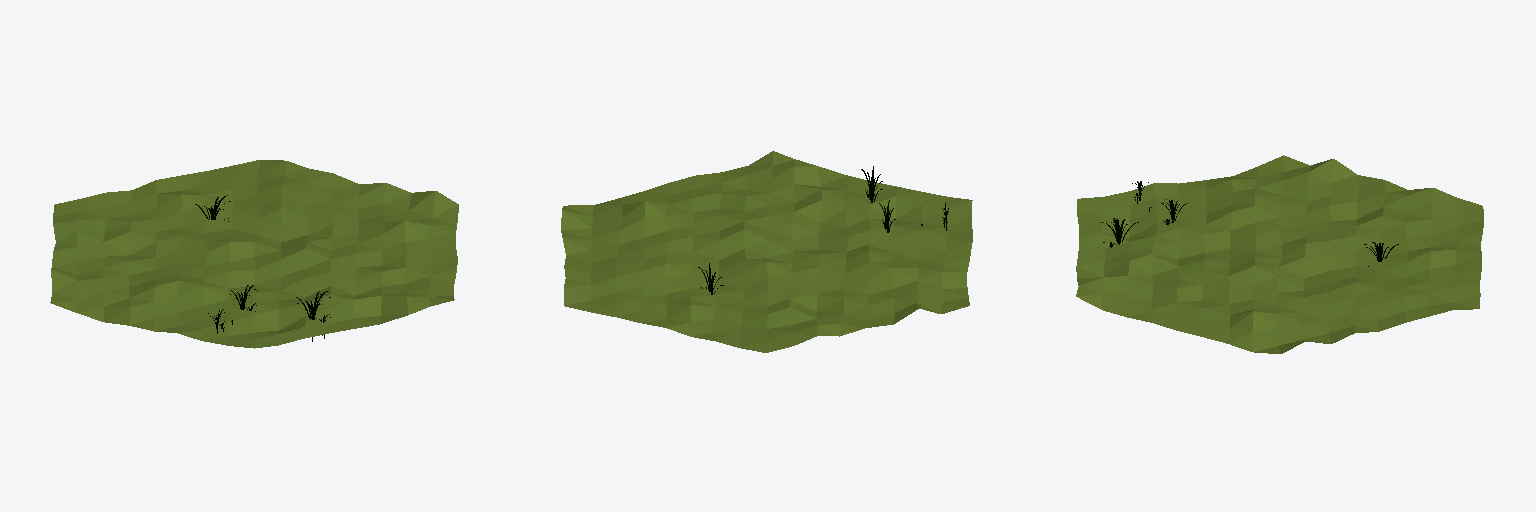
The model's file is plaine2.obj.
3 views of the same model, side by side, from view 1: azimuth 30°, elevation 25°; view 2: azimuth 150°, elevation 25°; view 3: azimuth 270°, elevation 25° (orthographic).
Visible parts, largest first — view 1: Circle; view 2: Circle; view 3: Circle.
Boxes of the visible parts, x1=… form: Circle: x1=50, y1=160, x2=458, y2=348; Circle: x1=561, y1=151, x2=972, y2=352; Circle: x1=1076, y1=155, x2=1483, y2=353.
Bounding box in the file's own units: 2.02 × 0.2705 × 1.75.